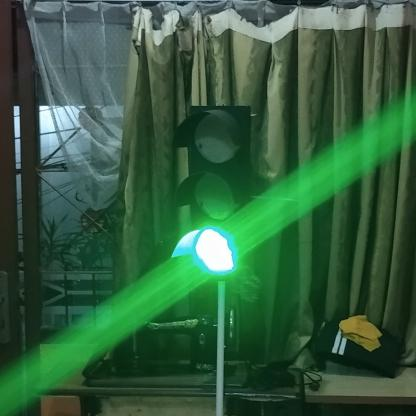green: (173, 109, 251, 279)
